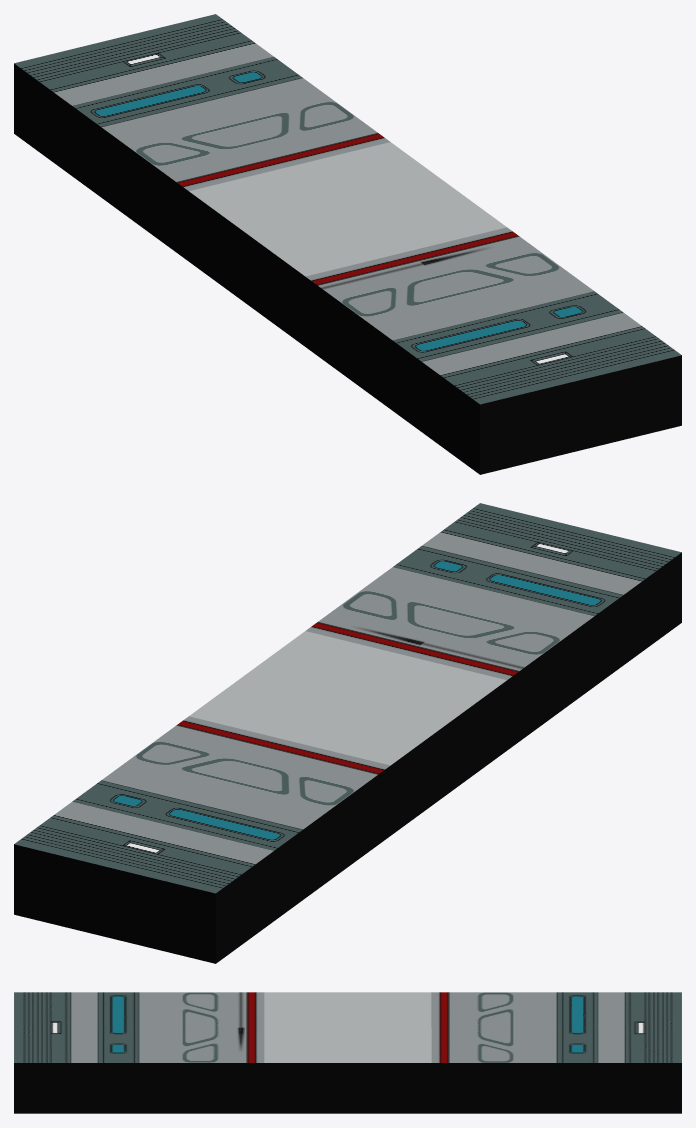
The model's file is 1.5x6corridor.fbx.
3 views of the same model, one above another, from view 1: azimuth 30°, elevation 25°; view 2: azimuth 150°, elevation 25°; view 3: azimuth 270°, elevation 25° (orthographic). The views are drawn at different scales.
Visible parts, largest first — view 1: 3x3corridor.001; view 2: 3x3corridor.001; view 3: 3x3corridor.001.
Part boxes in pixels (left/top/right/bottom): 3x3corridor.001: left=14, top=14, right=681, bottom=474; 3x3corridor.001: left=14, top=503, right=681, bottom=963; 3x3corridor.001: left=14, top=992, right=681, bottom=1113.
Bounding box in the file's own units: 150 × 600 × 50.
